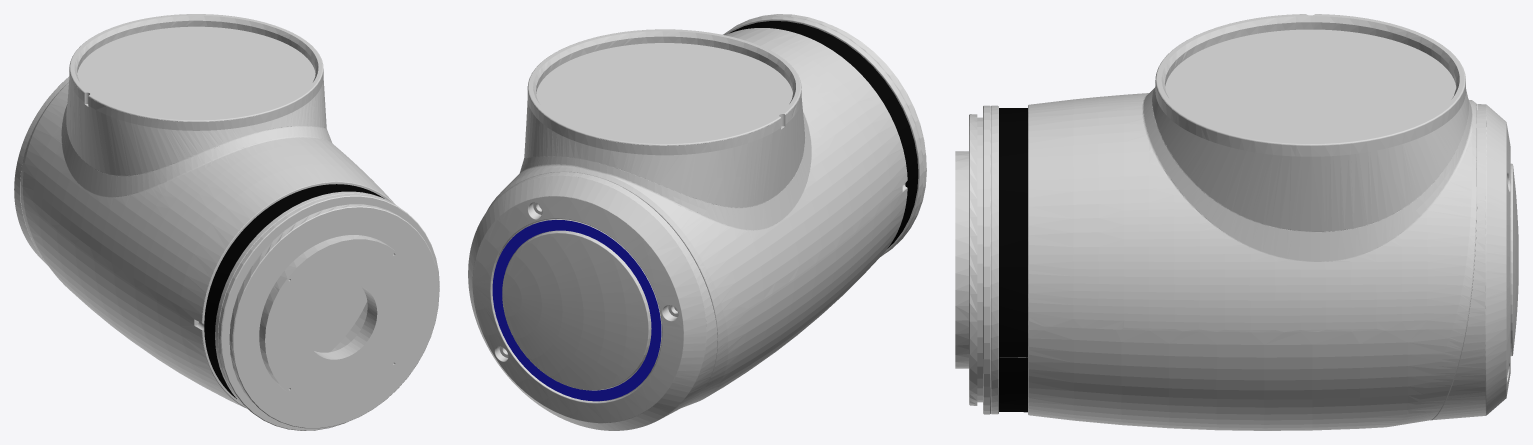
File: symphony15_5_w.dae
The picture shows the model from 3 angles, left to right: view 1: azimuth 30°, elevation 25°; view 2: azimuth 150°, elevation 25°; view 3: azimuth 270°, elevation 25°; orthographic projection. The views are drawn at different scales.
Parts seen in each view (by area): view 1: link5; view 2: link5; view 3: link5.
Part boxes in pixels (left/top/right/bottom): link5: left=14, top=14, right=439, bottom=430; link5: left=468, top=14, right=926, bottom=430; link5: left=955, top=14, right=1518, bottom=430.
Bounding box in the file's own units: 0.1101 × 0.1815 × 0.1194.
